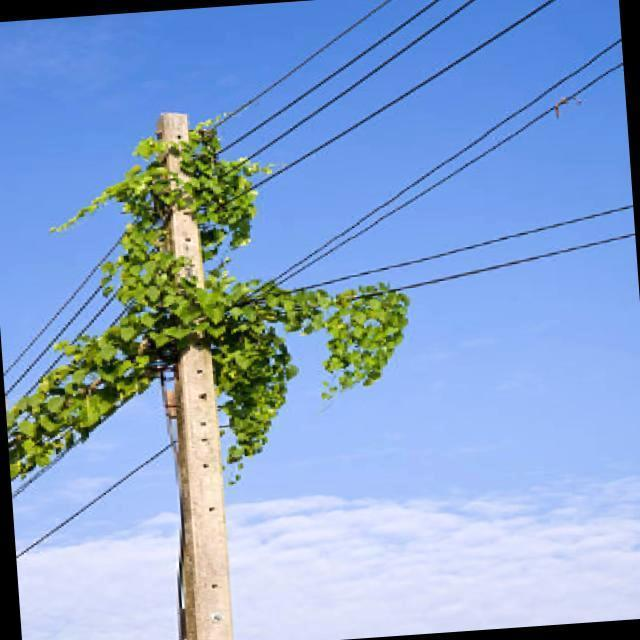critical vegetation: (79, 115, 294, 476)
